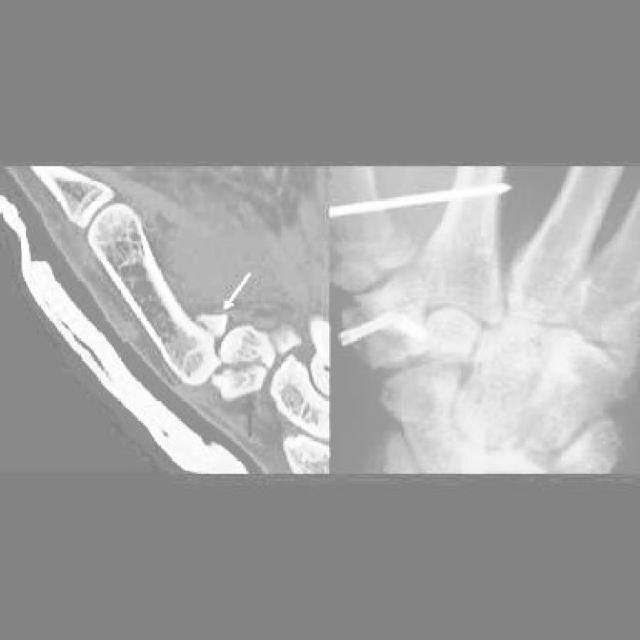Fracture: (211, 348, 271, 384), (194, 304, 231, 338)
